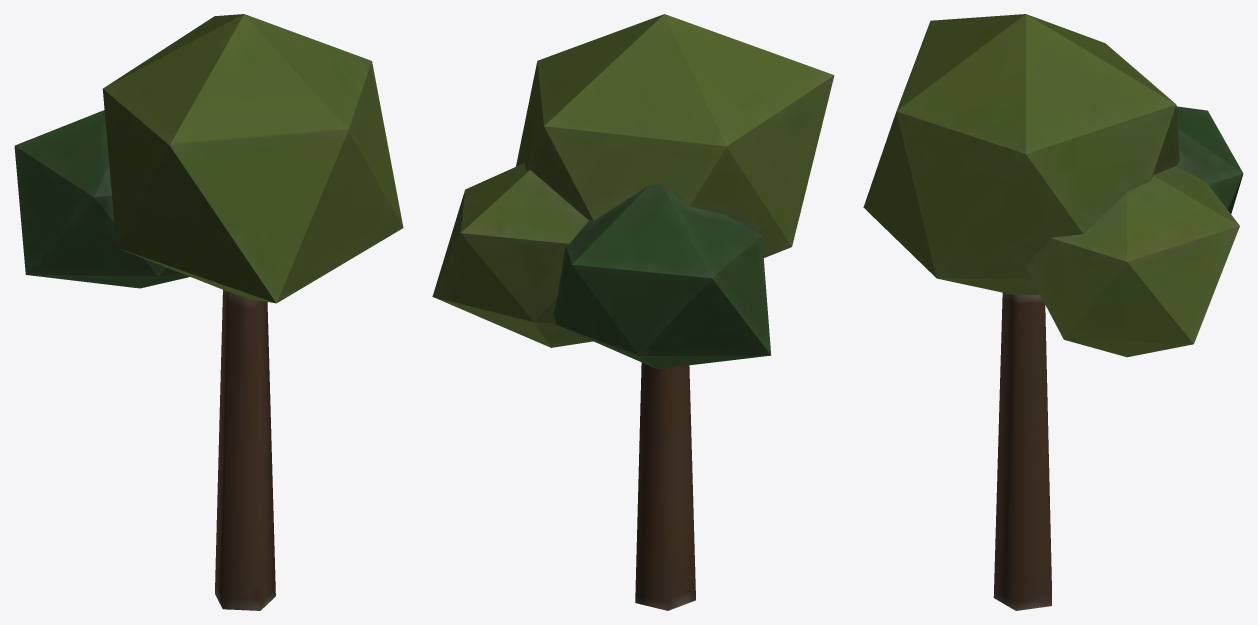
Rendered from tree_7.glb.
3 views of the same model, side by side, from view 1: azimuth 30°, elevation 25°; view 2: azimuth 150°, elevation 25°; view 3: azimuth 270°, elevation 25° (orthographic).
Parts seen in each view (by area): view 1: te_prop_tree_7; view 2: te_prop_tree_7; view 3: te_prop_tree_7.
Part boxes in pixels (x1,y1,x2,y2): te_prop_tree_7: (14,14,403,610); te_prop_tree_7: (432,14,834,610); te_prop_tree_7: (863,14,1243,610).
Size of the model in its own units: 0.268 by 0.4801 by 0.2831.
1 material, 1 textured.
